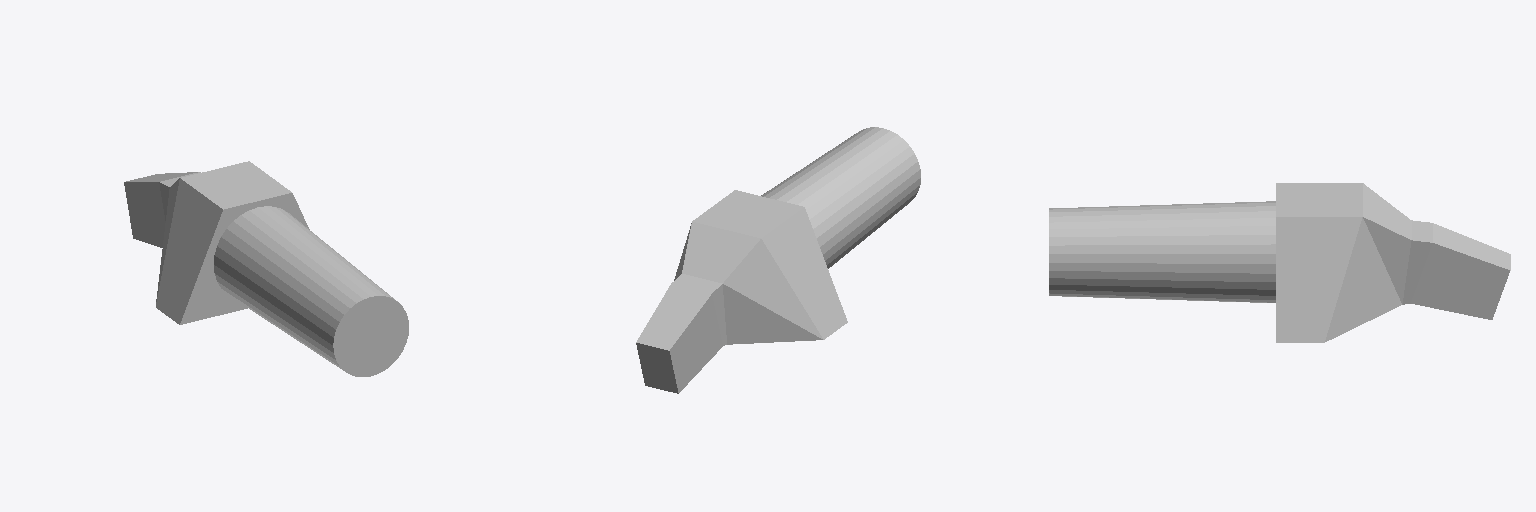
Rendered from SCATTERSHOCK.obj.
3 views of the same model, side by side, from view 1: azimuth 30°, elevation 25°; view 2: azimuth 150°, elevation 25°; view 3: azimuth 270°, elevation 25° (orthographic).
Visible parts, largest first — view 1: Cube; view 2: Cube; view 3: Cube.
Boxes of the visible parts, <box> form: Cube: <box>124,161,408,376</box>; Cube: <box>636,127,920,393</box>; Cube: <box>1049,183,1510,342</box>.
Size of the model in its own units: 5.97 by 4.1 by 15.25.